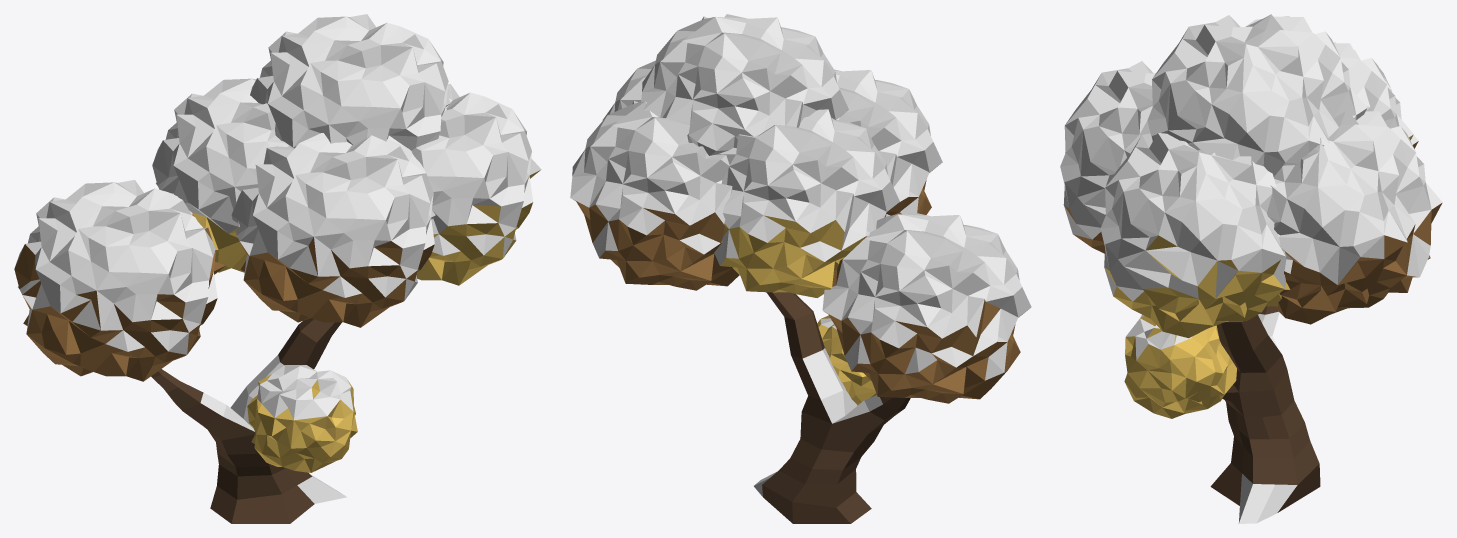
The model's file is winter tree 3.fbx.
3 views of the same model, side by side, from view 1: azimuth 30°, elevation 25°; view 2: azimuth 150°, elevation 25°; view 3: azimuth 270°, elevation 25° (orthographic). The views are drawn at different scales.
Parts seen in each view (by area): view 1: LowPoly Tree .038; view 2: LowPoly Tree .038; view 3: LowPoly Tree .038.
Boxes of the visible parts, box(x1,y1,x2,y2) form: LowPoly Tree .038: box(14, 14, 541, 523); LowPoly Tree .038: box(570, 14, 1031, 523); LowPoly Tree .038: box(1060, 14, 1442, 523).
Size of the model in its own units: 226 by 220 by 152.
